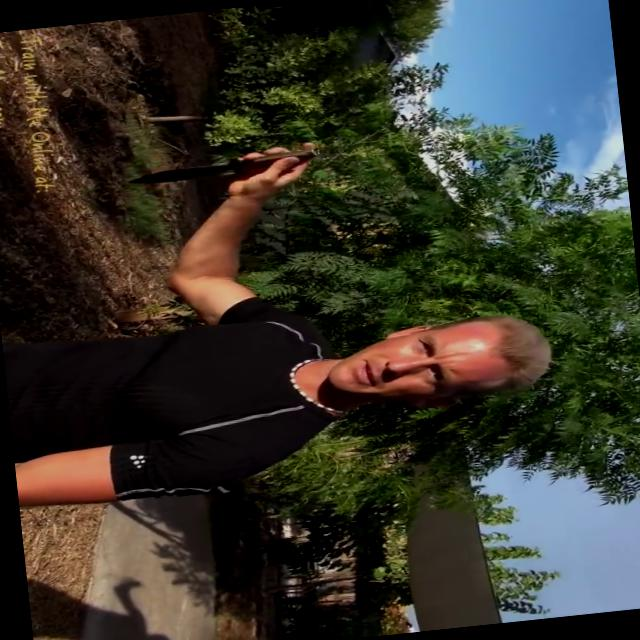knife: (124, 132, 322, 198)
